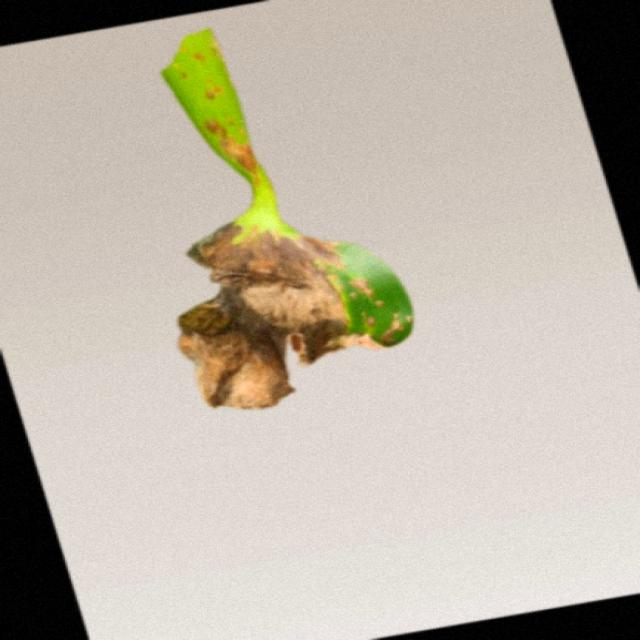daun berpenyakit karat: (162, 29, 413, 409)
